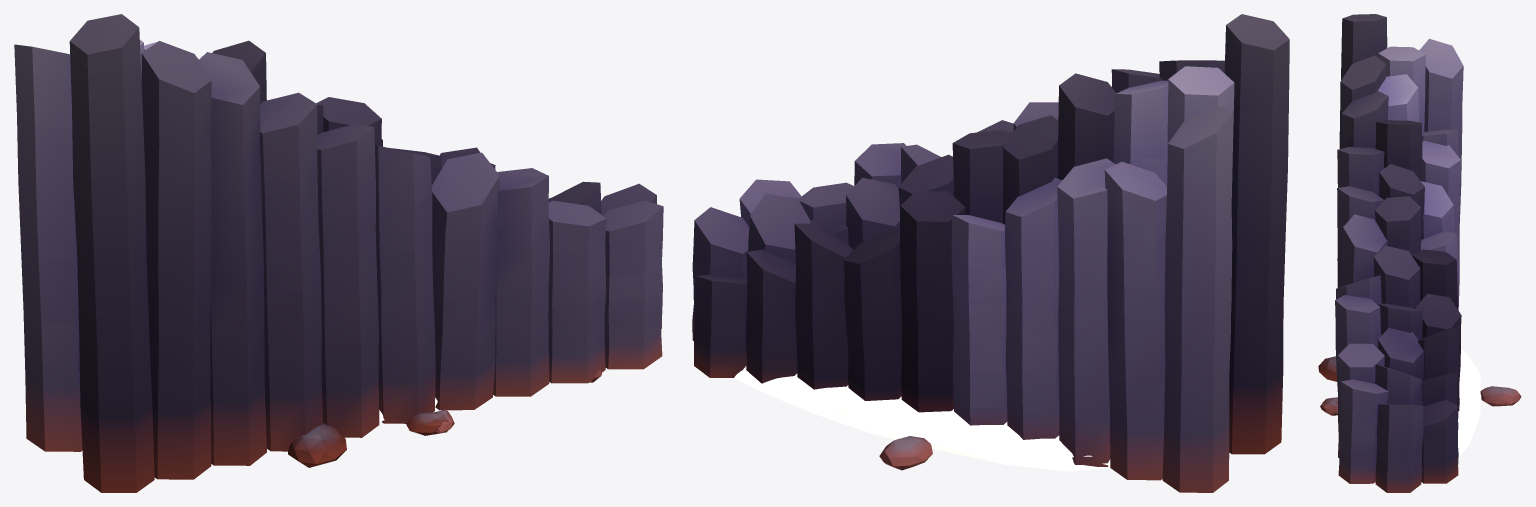
Rendered from ember_pillar_organ_a.glb.
3 views of the same model, side by side, from view 1: azimuth 30°, elevation 25°; view 2: azimuth 150°, elevation 25°; view 3: azimuth 270°, elevation 25° (orthographic). The views are drawn at different scales.
Visible parts, largest first — view 1: ember_pillar_organ_a; view 2: ember_pillar_organ_a; view 3: ember_pillar_organ_a.
Boxes of the visible parts, <box> form: ember_pillar_organ_a: <box>14,14,663,492</box>; ember_pillar_organ_a: <box>692,14,1289,492</box>; ember_pillar_organ_a: <box>1318,14,1521,492</box>.
Size of the model in its own units: 17.55 by 13.09 by 7.87.
